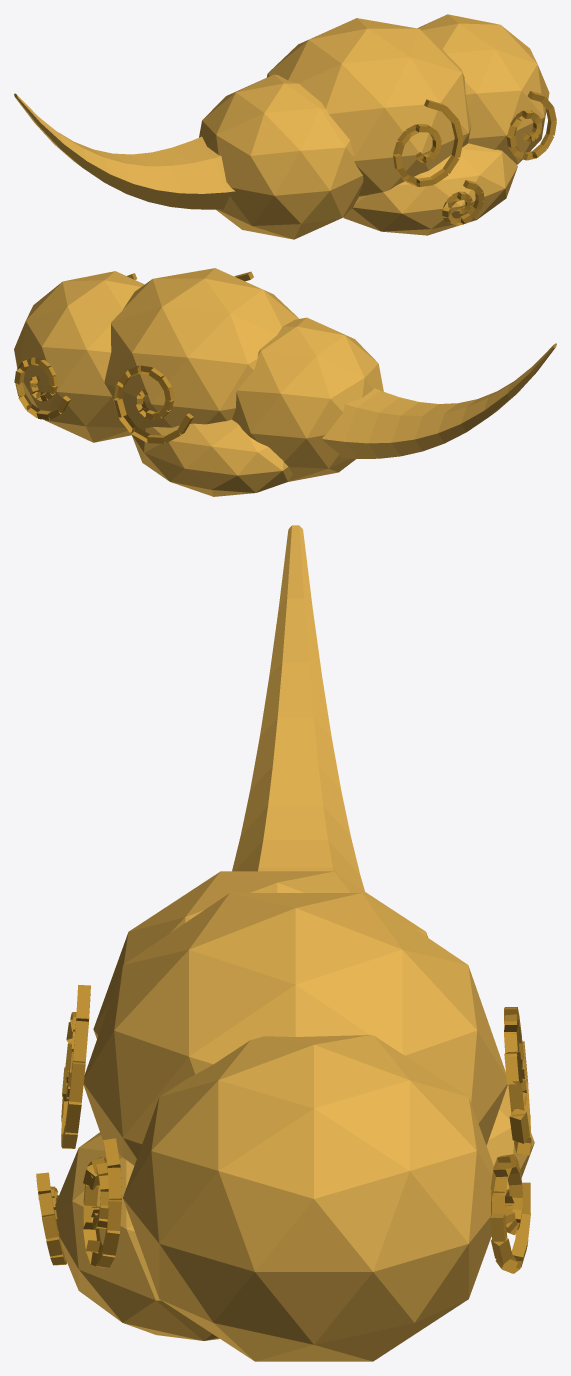
The model's file is cloud.glb.
3 renders of one model, top to bottom at view 1: azimuth 30°, elevation 25°; view 2: azimuth 150°, elevation 25°; view 3: azimuth 270°, elevation 25°, orthographic. The views are drawn at different scales.
Parts seen in each view (by area): view 1: Cloud_Body; view 2: Cloud_Body; view 3: Cloud_Body.
Part boxes in pixels (x1,y1,x2,y2): Cloud_Body: [14, 14, 556, 239]; Cloud_Body: [14, 268, 556, 496]; Cloud_Body: [36, 525, 534, 1361].
Bounding box in the file's own units: 3.28 × 1.24 × 1.36.
Materials: 1 (1 with a texture image).
